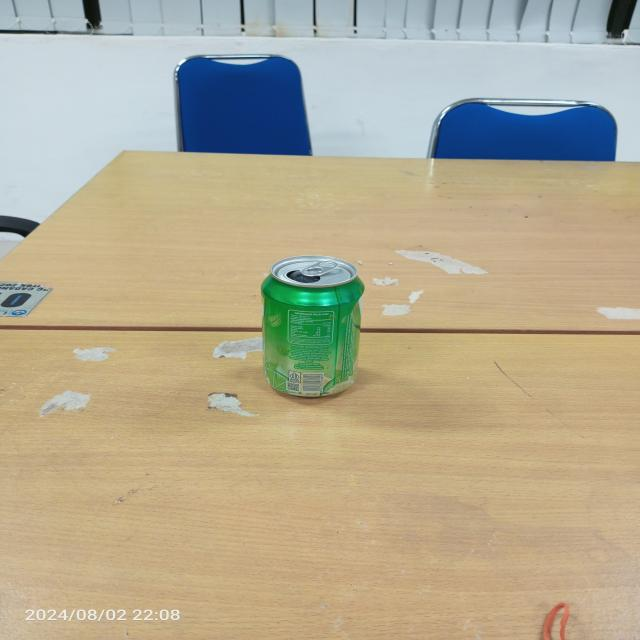ademsarikaleng: (259, 254, 365, 398)
